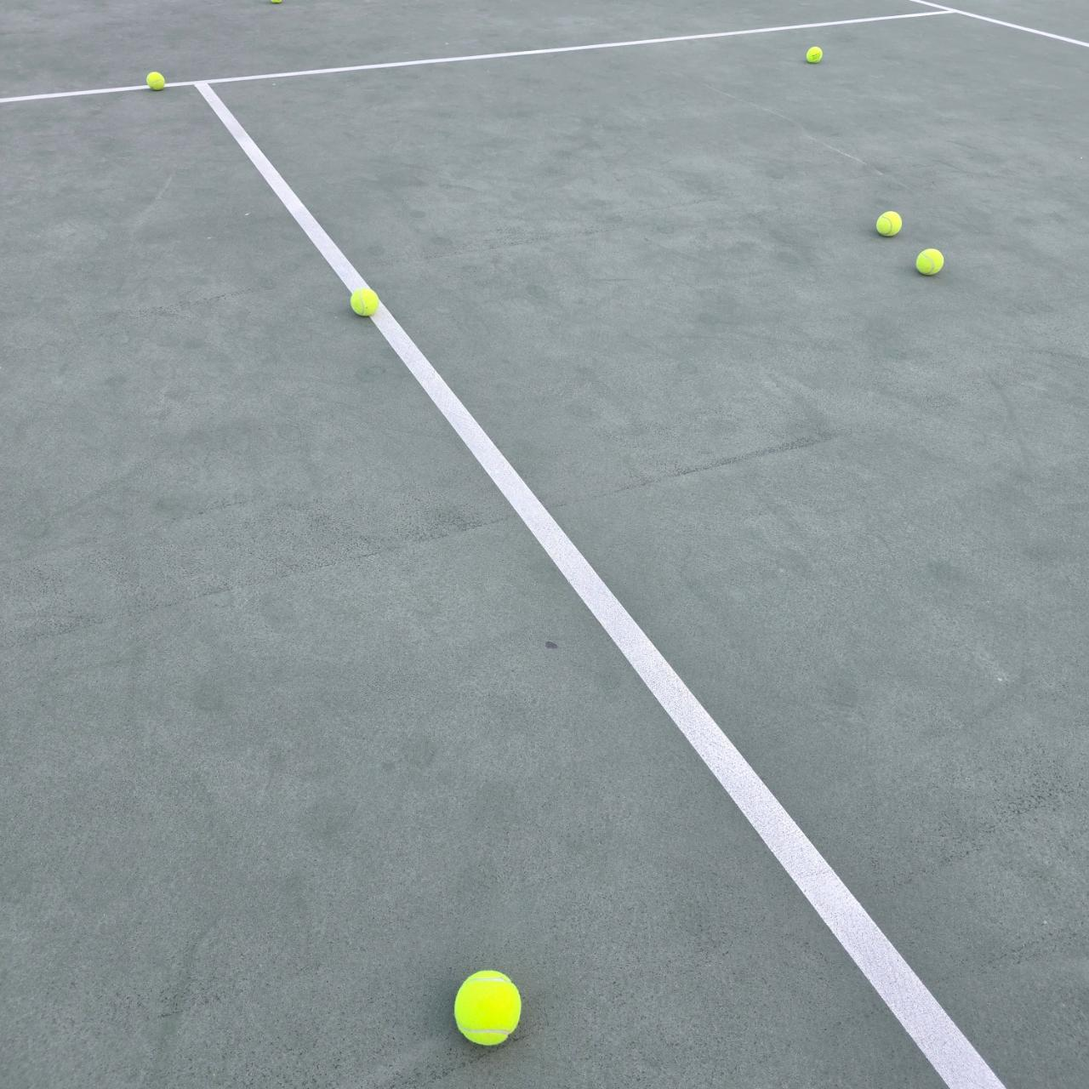tennis-ball: (452, 966, 522, 1046), (348, 285, 379, 316), (914, 246, 944, 275), (874, 208, 902, 237), (145, 69, 165, 90), (805, 43, 823, 63)
